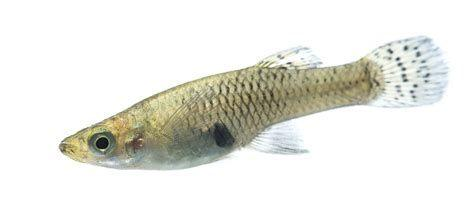Mosquito Fish: (56, 39, 445, 173)
